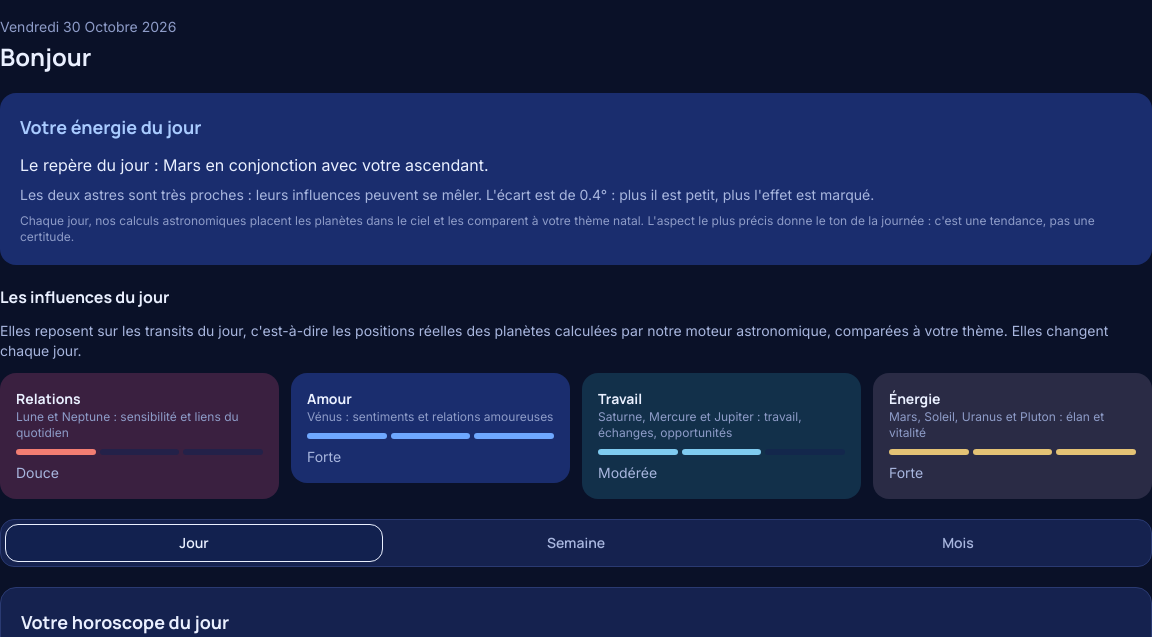
Test: TodayFlow › ne charge la lecture mensuelle qu'à la bascule sur « Mois »
Click the radio button labelled "Mois": point(958, 543) [769, 524, 1147, 562]
(page scrolled)
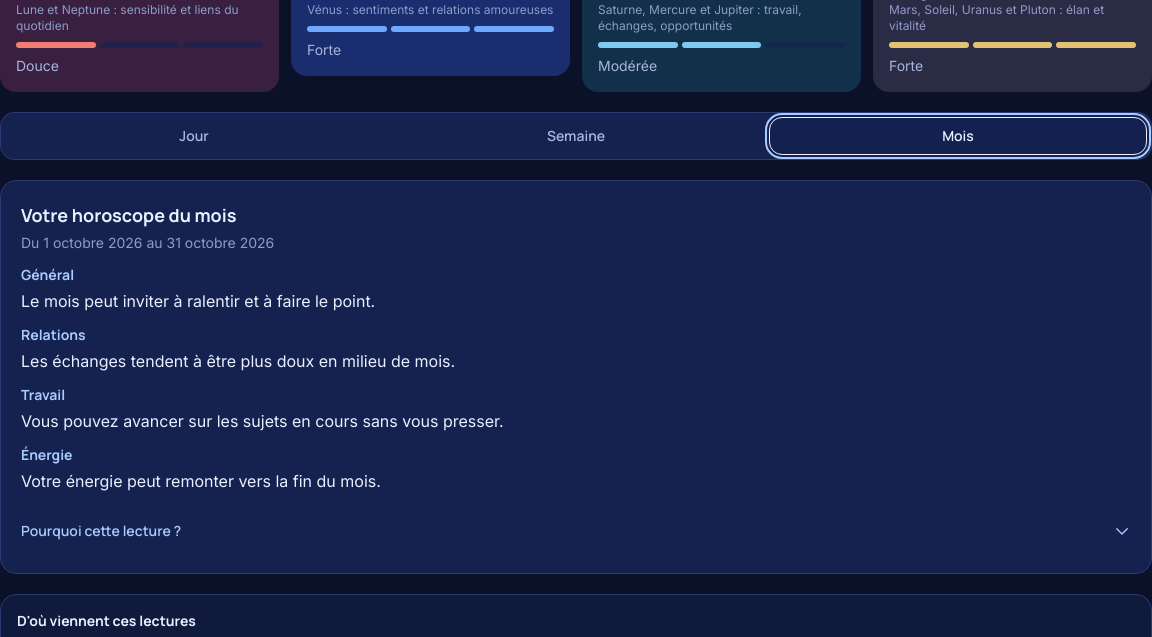
Expected: the heading "Votre horoscope du mois" is shown, [21, 203, 236, 227]
Expected: the text "Le mois peut inviter à ralentir et à faire le point." is shown, [21, 291, 375, 311]
